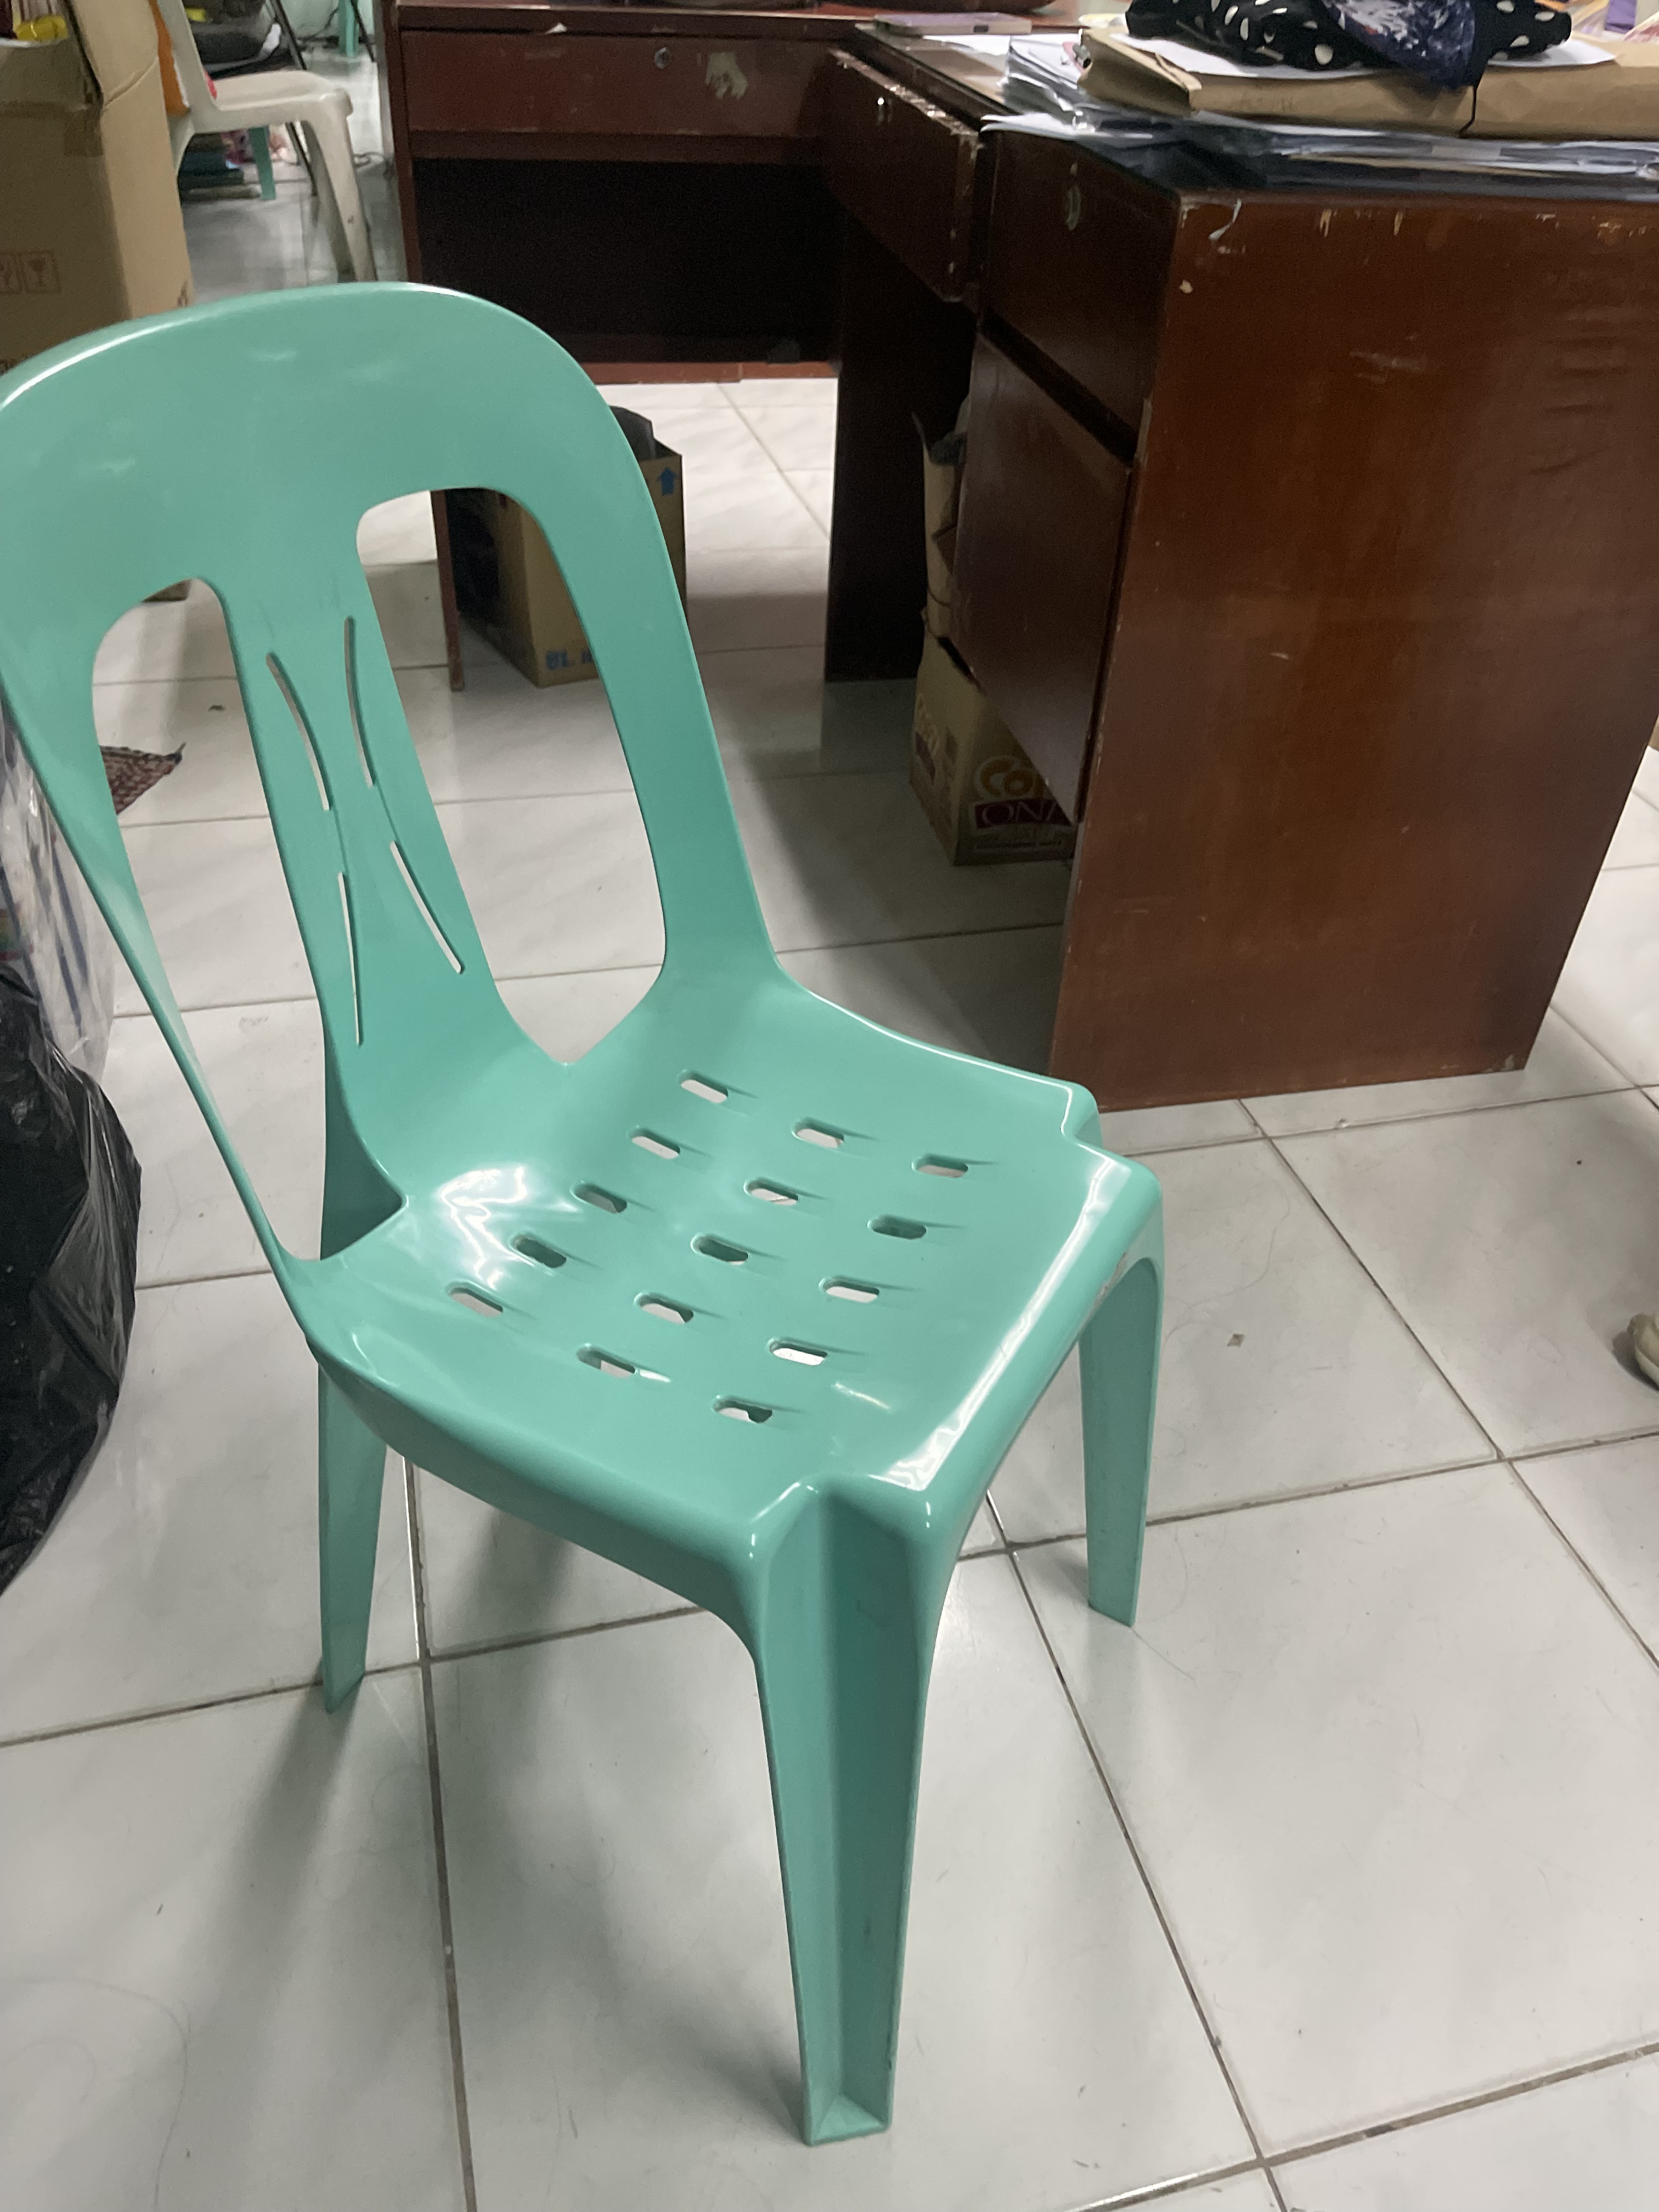chair2: (3, 272, 1178, 2196)
